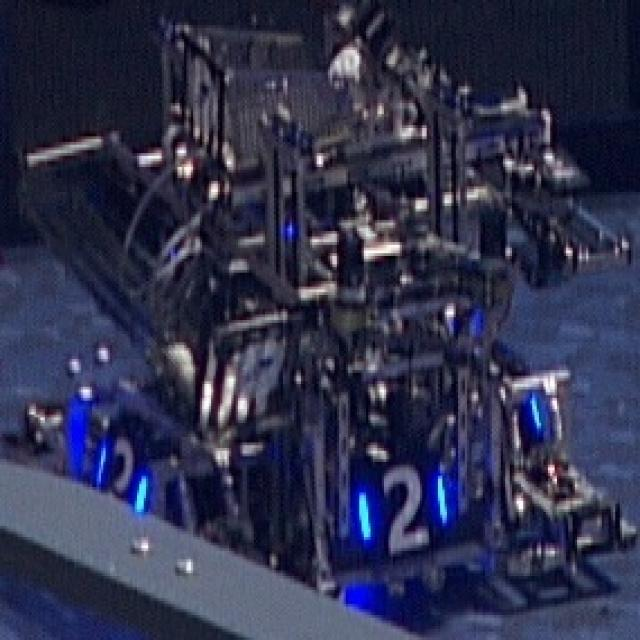B2: (349, 455, 455, 555), (80, 424, 156, 514)
